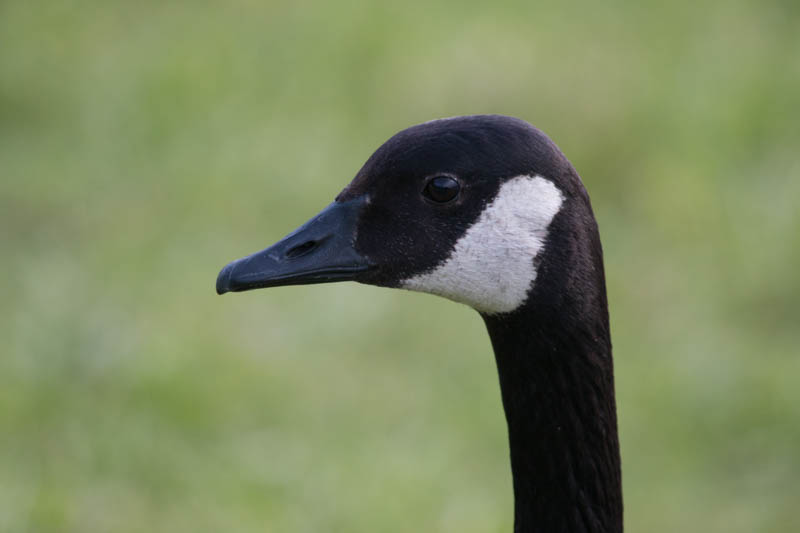goose-head: (215, 112, 608, 318)
